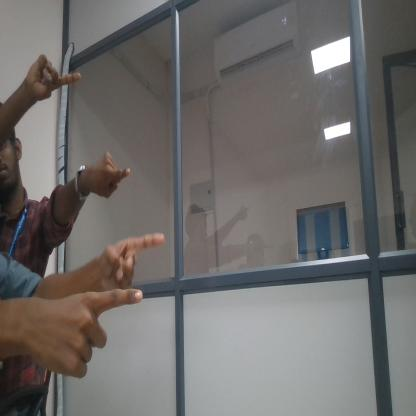Left: (41, 284, 146, 384), (20, 47, 83, 107), (88, 144, 132, 207)
